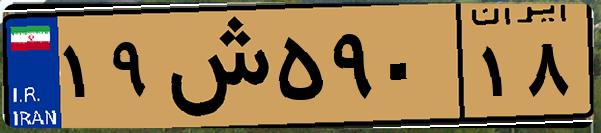0: (385, 28, 445, 110)
1: (57, 26, 110, 100), (475, 38, 525, 113)
5: (270, 28, 330, 110)
8: (525, 38, 570, 115)
9: (330, 28, 385, 110), (110, 28, 158, 98)
ش: (158, 12, 270, 120)
